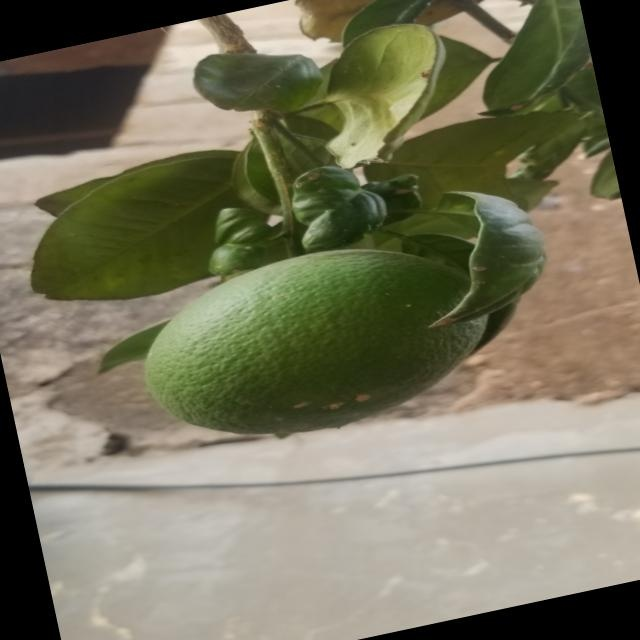agrume: (141, 221, 517, 471)
